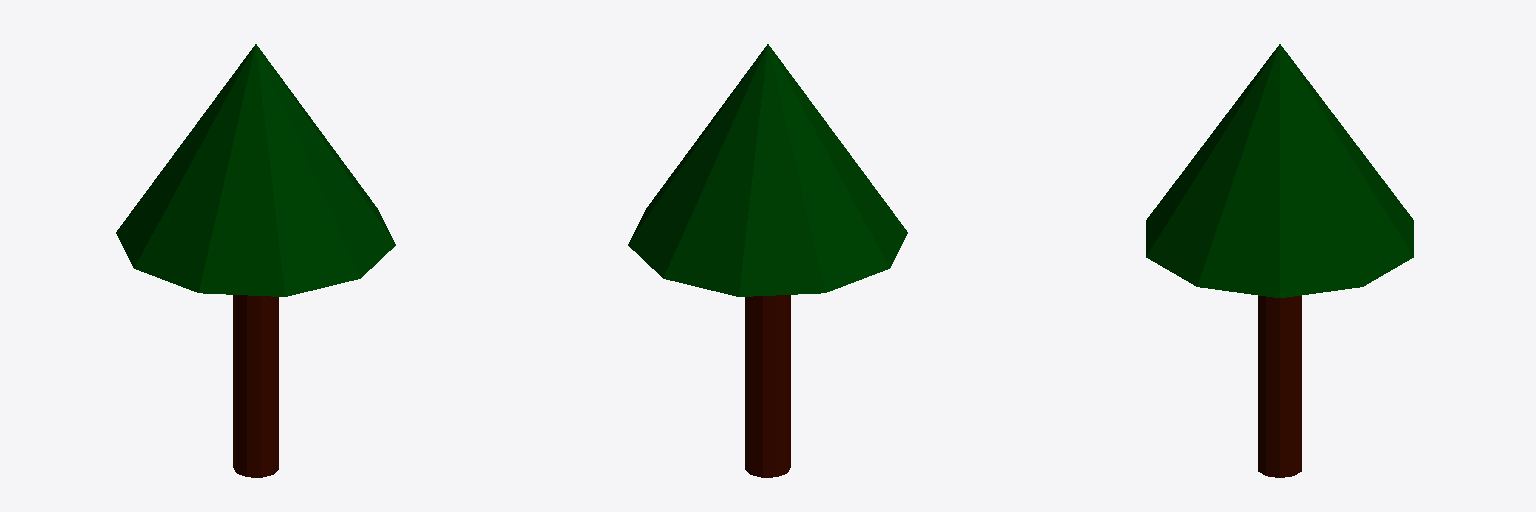
The model's file is arbol.obj.
3 views of the same model, side by side, from view 1: azimuth 30°, elevation 25°; view 2: azimuth 150°, elevation 25°; view 3: azimuth 270°, elevation 25° (orthographic).
Parts seen in each view (by area): view 1: pCone015; view 2: pCone015; view 3: pCone015.
Part boxes in pixels (bbox=[...]): pCone015: bbox=[116, 44, 395, 477]; pCone015: bbox=[628, 44, 907, 477]; pCone015: bbox=[1146, 44, 1413, 477].
Size of the model in its own units: 9.46 by 15.73 by 9.